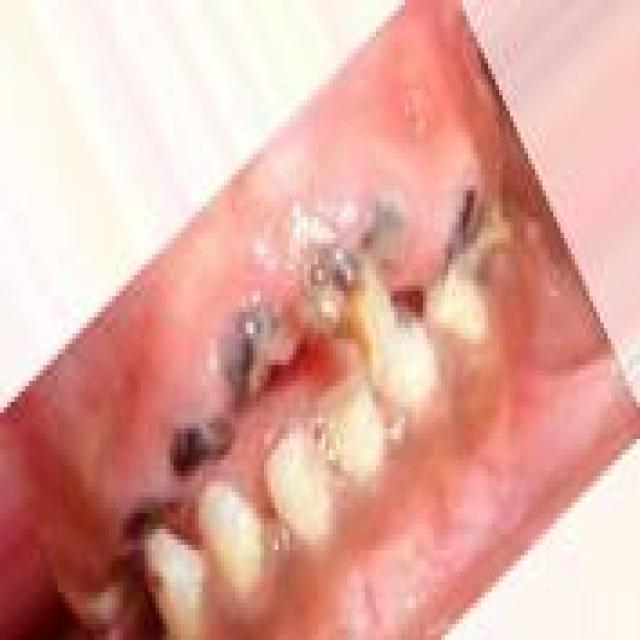caries: (285, 201, 371, 342), (204, 306, 304, 399), (443, 161, 497, 281), (166, 420, 242, 484), (116, 492, 186, 550)
